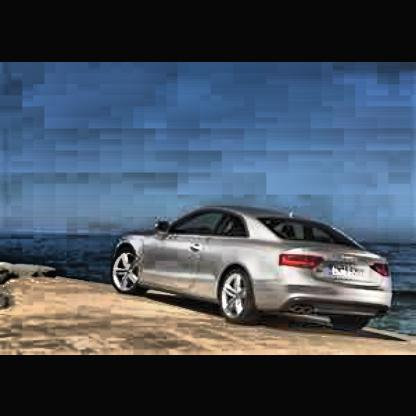Audi S5 Coupe 2012: (112, 207, 394, 334)
